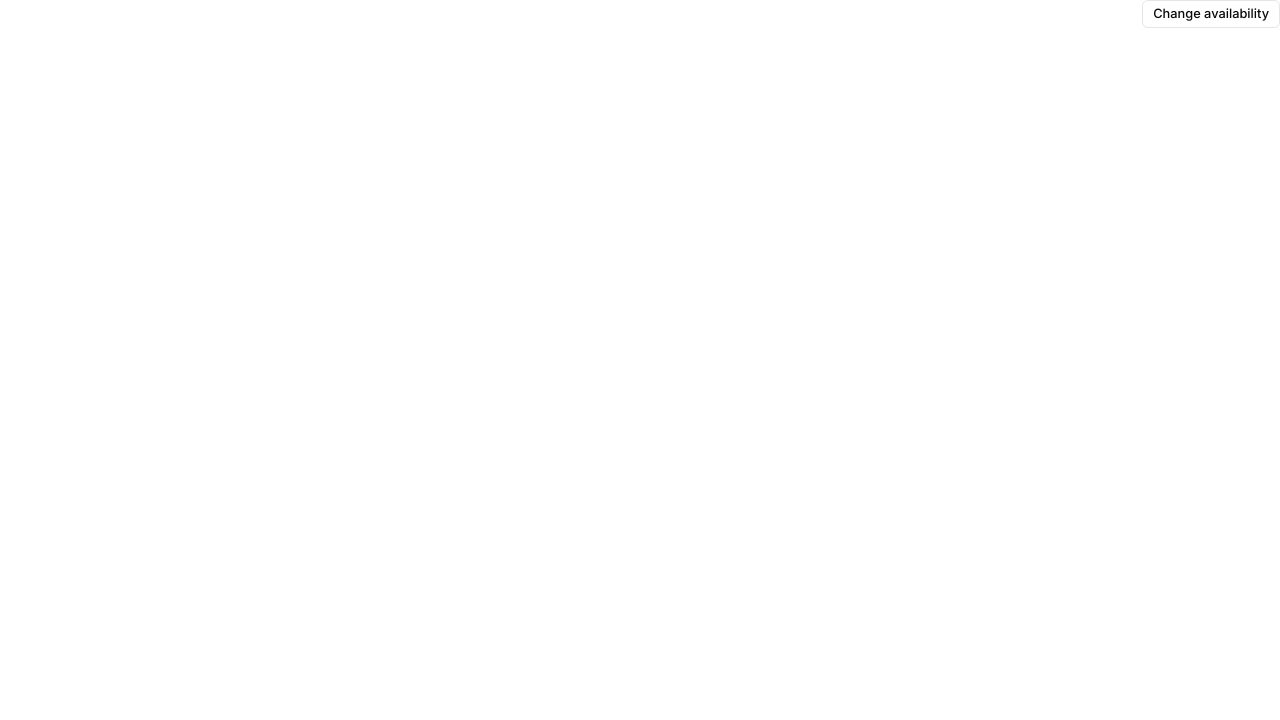
branch product availability form › saves availability separately and refreshes the listing
Click the button "Change availability".
click(1211, 14)  # box top-left (1142, 0), bottom-right (1279, 28)
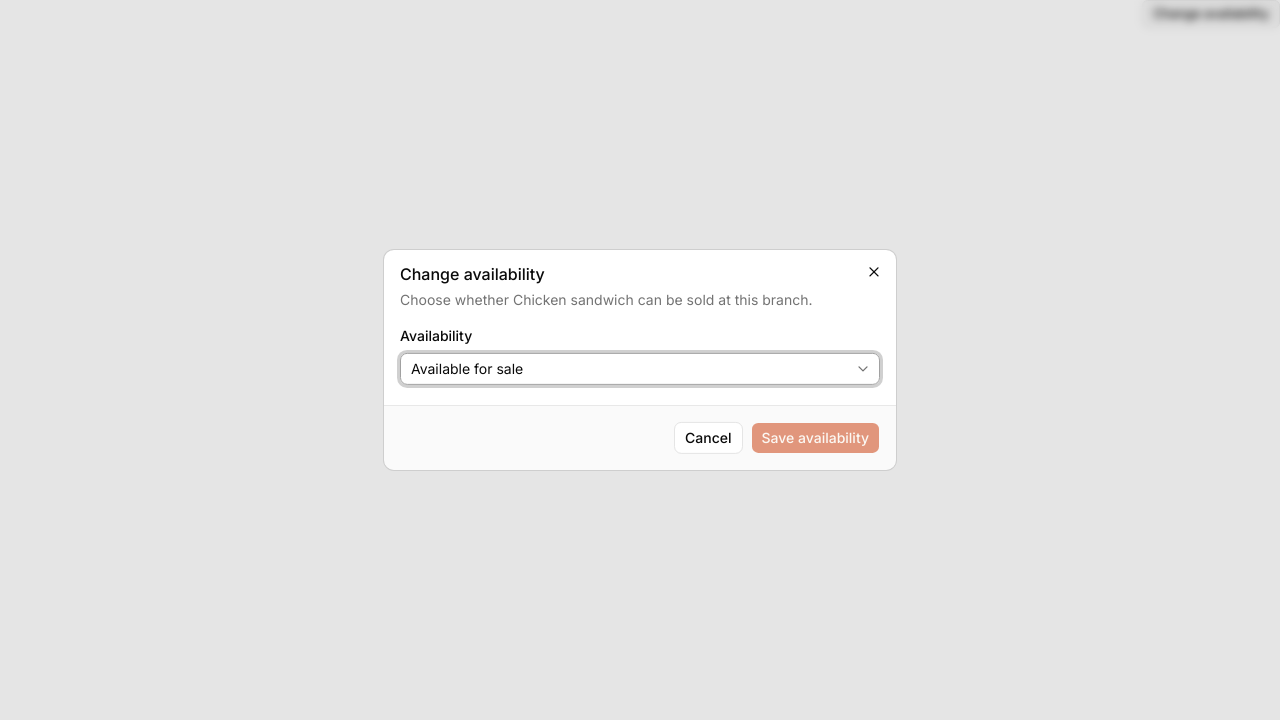
Click the dropdown named "Availability".
click(467, 369)  # box top-left (400, 353), bottom-right (880, 385)
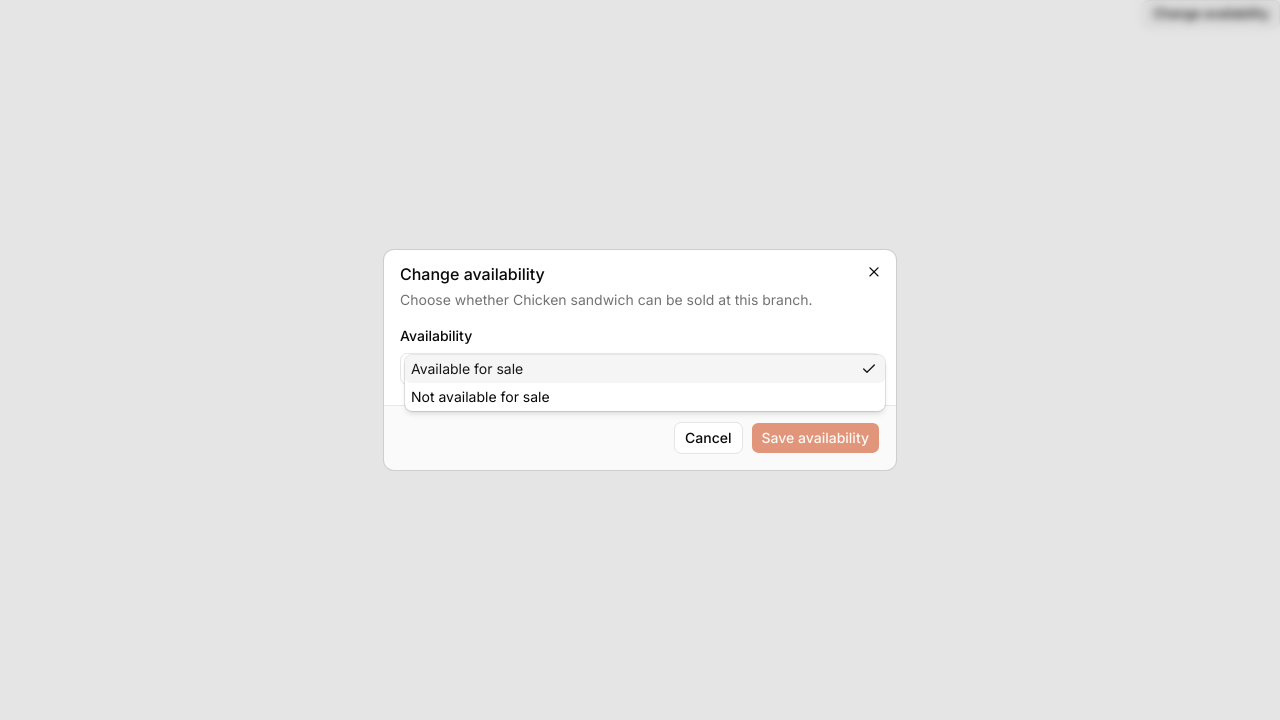
Click the option "Not available for sale".
click(480, 397)  # box top-left (411, 388), bottom-right (550, 405)
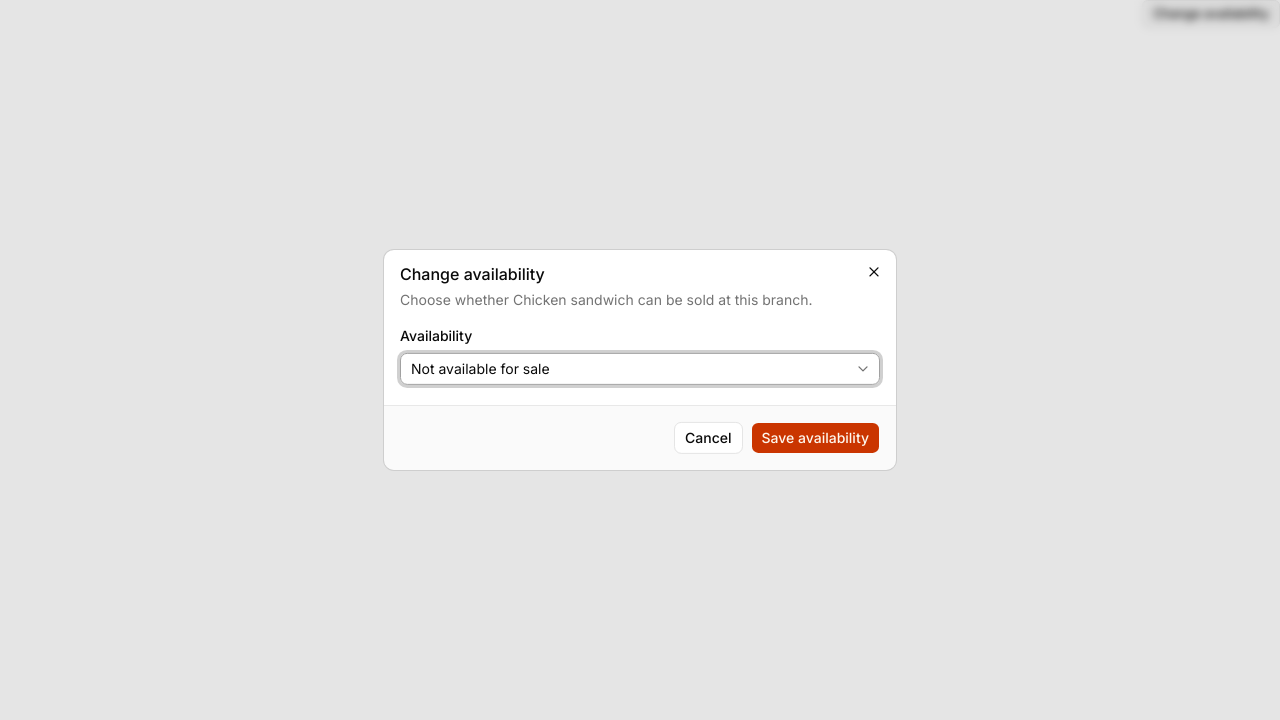
Click the button "Save availability".
click(815, 438)  # box top-left (750, 422), bottom-right (880, 454)
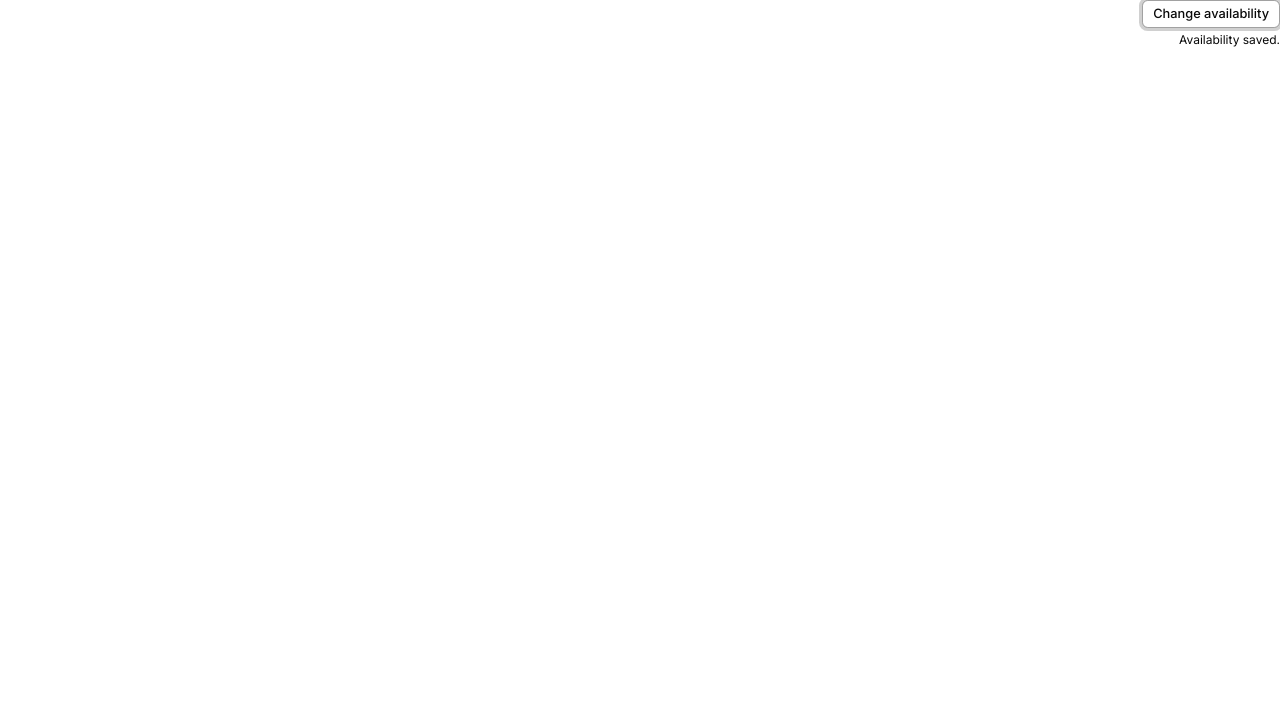
Result: the message reads "Availability saved." at top-left (1179, 32), bottom-right (1279, 47)
